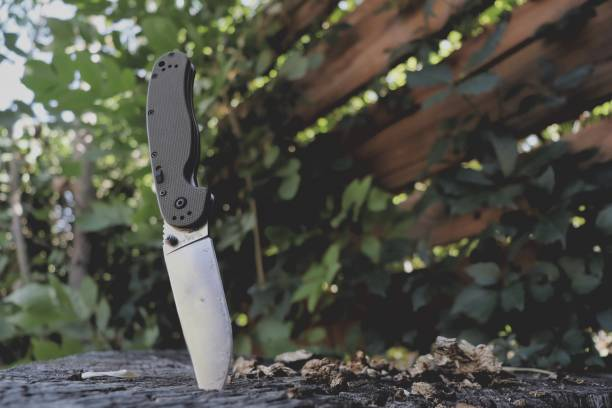knife: (142, 48, 236, 391)
